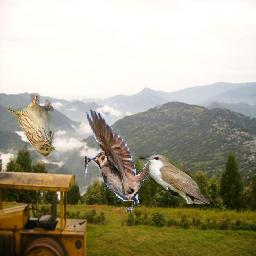Cuckoo: (138, 154, 210, 204)
Sparrow: (86, 110, 157, 213), (7, 94, 58, 159)
